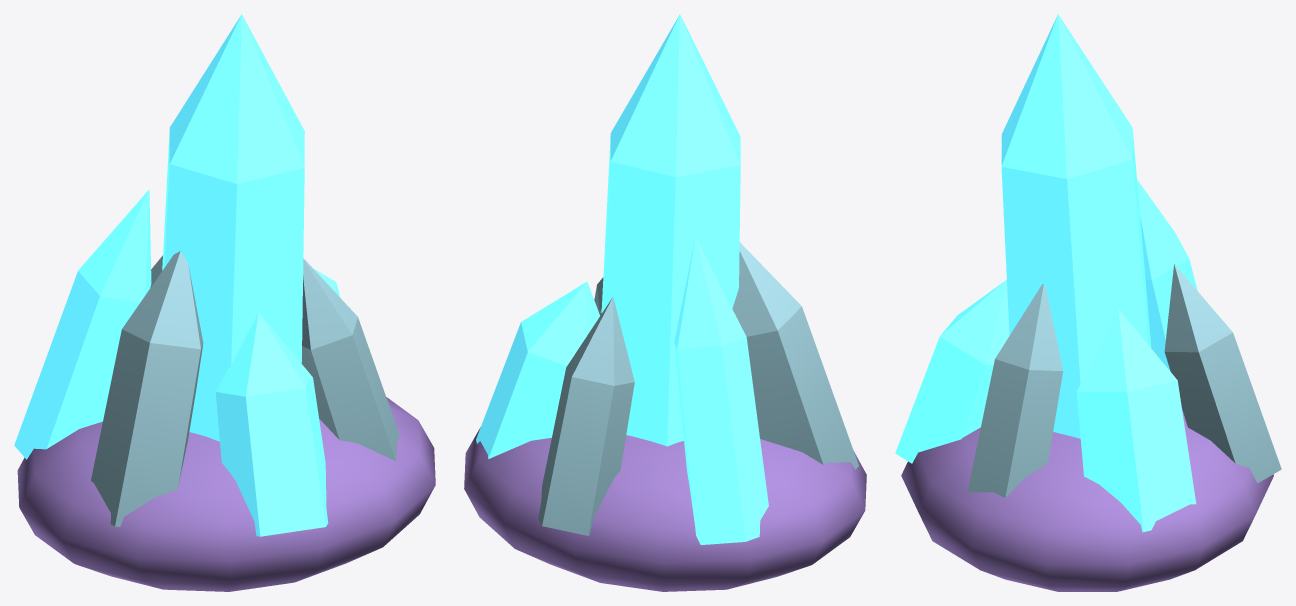
File: bg_cry_aqua.glb
3 renders of one model, left to right at view 1: azimuth 30°, elevation 25°; view 2: azimuth 150°, elevation 25°; view 3: azimuth 270°, elevation 25°, orthographic. The views are drawn at different scales.
Parts seen in each view (by area): view 1: M_Cry_aqua__c_aqua, M_Cry_aqua__c_rock, M_Cry_aqua__c2_aqua; view 2: M_Cry_aqua__c_aqua, M_Cry_aqua__c_rock, M_Cry_aqua__c2_aqua; view 3: M_Cry_aqua__c_aqua, M_Cry_aqua__c_rock, M_Cry_aqua__c2_aqua.
Part boxes in pixels (x1,y1,x2,y2): M_Cry_aqua__c_aqua: (14, 14, 340, 536); M_Cry_aqua__c_rock: (17, 397, 435, 591); M_Cry_aqua__c2_aqua: (91, 251, 399, 526); M_Cry_aqua__c_aqua: (476, 14, 768, 544); M_Cry_aqua__c_rock: (464, 427, 866, 591); M_Cry_aqua__c2_aqua: (538, 242, 858, 535); M_Cry_aqua__c_aqua: (895, 14, 1197, 532); M_Cry_aqua__c_rock: (901, 409, 1273, 591); M_Cry_aqua__c2_aqua: (967, 264, 1281, 497).
Size of the model in its own units: 2.13 by 3.02 by 1.97.
